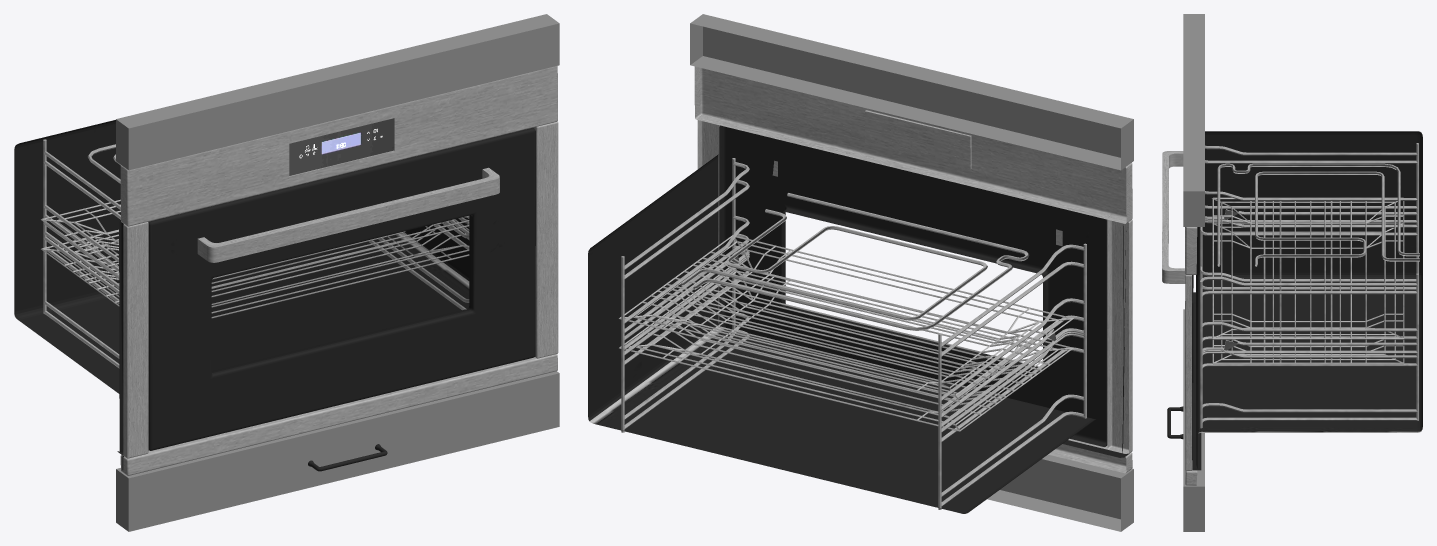
File: oven.glb
3 views of the same model, side by side, from view 1: azimuth 30°, elevation 25°; view 2: azimuth 150°, elevation 25°; view 3: azimuth 270°, elevation 25° (orthographic). The views are drawn at different scales.
Visible parts, largest first — view 1: Oven 1, Oven Drawer; view 2: Oven 1, Oven Drawer; view 3: Oven 1, Oven Drawer.
Boxes of the visible parts, bbox=[...] form: Oven 1: bbox=[14, 66, 558, 475]; Oven Drawer: bbox=[116, 14, 559, 531]; Oven 1: bbox=[588, 66, 1132, 531]; Oven Drawer: bbox=[690, 14, 1133, 531]; Oven 1: bbox=[1162, 131, 1422, 485]; Oven Drawer: bbox=[1183, 14, 1204, 531].
Bounding box in the file's own units: 0.8961 × 0.7988 × 0.5544.
Materials: 3 (2 with a texture image).
